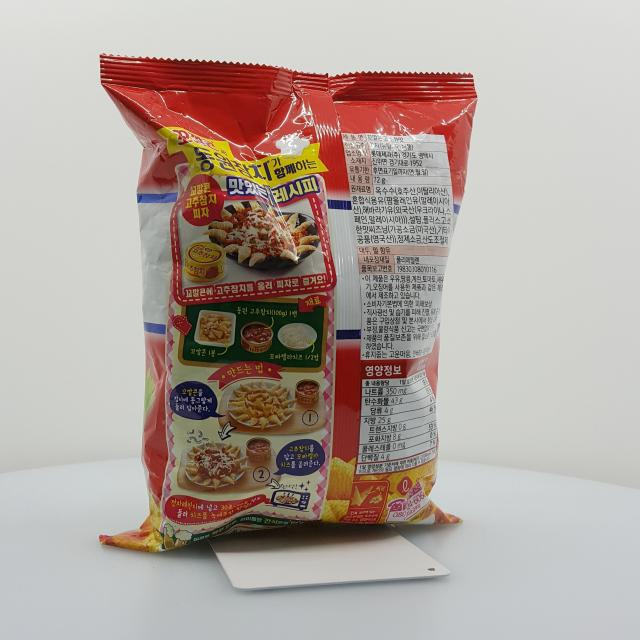-72G: (99, 54, 479, 553)
